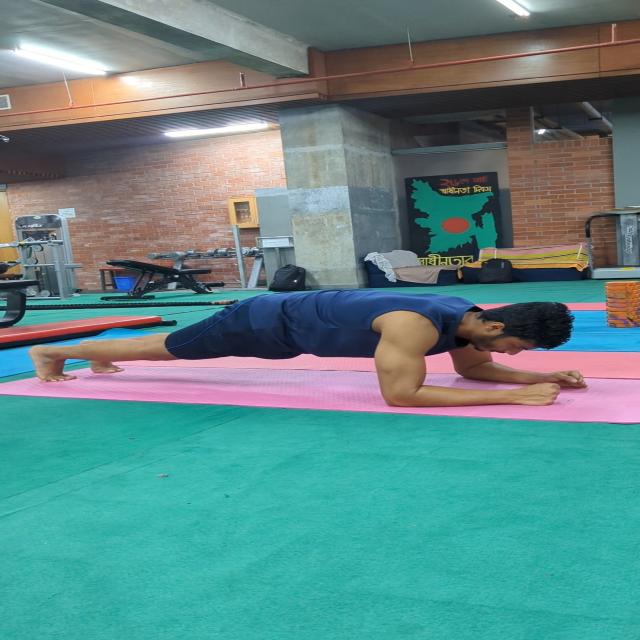Normal_Plunk: (36, 281, 594, 417)
